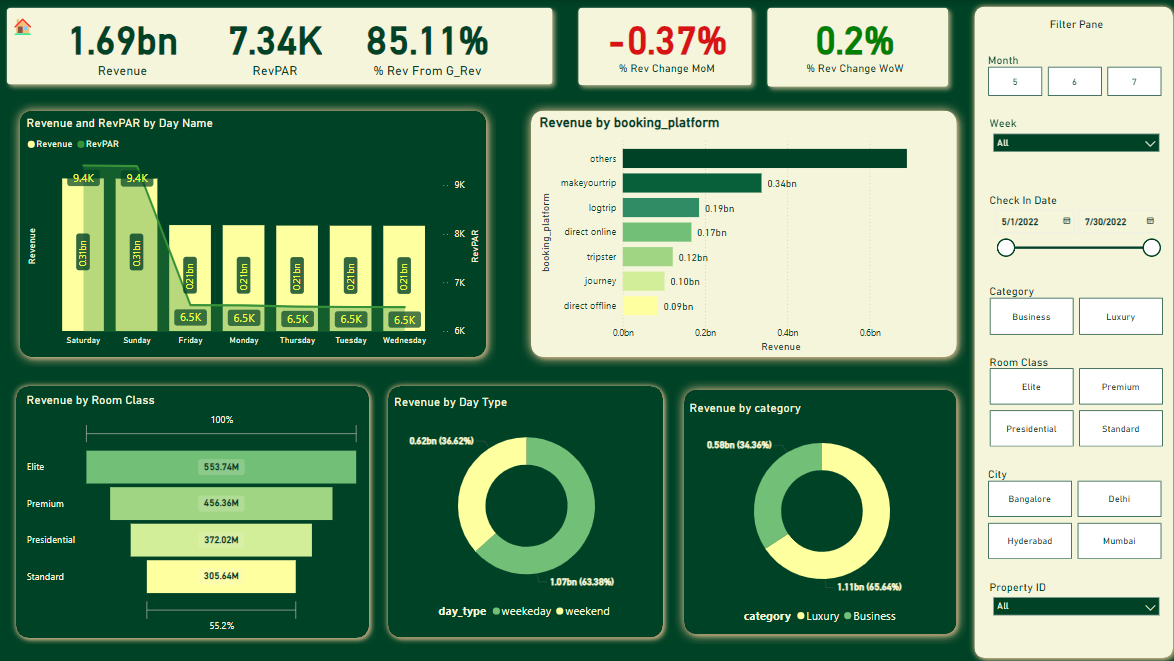

What the dashboard file says about the page in this screenshot:
{"tool":"powerbi","page":{"name":"Drill","canvas":[1280,720],"ordinal":2},"visuals":[{"type":"shape","box":[0,0,1280,71.7],"z":0},{"type":"cardVisual","fields":{"Data":["Key Measures (2).Revenue","Key Measures (2).RevPAR","Key Measures (2).ADR","Key Measures (2).Occupancy %","Key Measures (2).Realisation %","Key Measures (2).DSRN"]},"box":[40.8,0,1198.8,71.8],"z":1000},{"type":"advancedSlicerVisual","title":"WEEK","fields":{"Values":["dim_date.wn"]},"box":[0,77.3,63.2,642.5],"z":2000},{"type":"tableEx","fields":{"Values":["Key Measures (2).Revenue WoW change %"]},"box":[177.3,0,103.7,44.3],"z":3000},{"type":"tableEx","fields":{"Values":["Key Measures (2).Revpar WoW change %"]},"box":[377.7,0,102,44.3],"z":4000},{"type":"tableEx","fields":{"Values":["Key Measures (2).ADR WoW change %"]},"box":[579,0,94,44.3],"z":5000},{"type":"tableEx","fields":{"Values":["Key Measures (2).Occupancy WoW change %"]},"box":[783,0,106.4,44.3],"z":6000},{"type":"tableEx","fields":{"Values":["Key Measures (2).Realisation WoW change %"]},"box":[982.5,0,96.7,44.3],"z":7000},{"type":"shape","title":"realisation Shape","box":[70,78,691.6,631.3],"z":9000},{"type":"pivotTable","fields":{"Rows":["dim_date.date.Variation.Date Hierarchy.Month","dim_date.week no","dim_date.date.Variation.Date Hierarchy.Day"],"Values":["Key Measures (2).Revenue","Key Measures (2).RevPAR","Key Measures (2).ADR","Key Measures (2).Occupancy %","Key Measures (2).DBRN","Key Measures (2).DSRN","Key Measures (2).DURN","Key Measures (2).Total Bookings"]},"box":[86.9,93.1,665,601.2],"z":10000},{"type":"shape","title":"realisation Shape","box":[770.2,78,273,287],"z":11000},{"type":"donutChart","title":"Realisation-Cancellation-No Show rate %","fields":{"Y":["Key Measures (2).Realisation %","Key Measures (2).Cancellation %","Key Measures (2).No Show rate %"]},"box":[776.7,90.4,259.8,269.6],"z":12000},{"type":"actionButton","box":[0,0,100,40],"z":13000},{"type":"shape","title":"realisation Shape","box":[756,366.2,518.7,343.2],"z":14000},{"type":"areaChart","fields":{"Category":["dim_date.date.Variation.Date Hierarchy.Month","dim_date.week no","dim_date.date.Variation.Date Hierarchy.Day"],"Y":["Key Measures (2).Revenue"]},"box":[770.5,377.7,489.5,328.1],"z":15000},{"type":"shape","title":"hotel cate Shape","box":[1039.2,78.9,217.2,287.3],"z":16000},{"type":"cardVisual","fields":{"Data":["Min(dim_hotels.property_id)","Min(dim_hotels.property_name)","Min(dim_hotels.city)"]},"box":[1047.2,88.7,202.2,266.9],"z":17000}]}

Visuals, with their boxes in screenshot pixels (x1, y1, x2, y2), scaled from the page's 1280x720 canvas onto the 1174x661 screenshot:
shape: (left=0, top=0, right=1173, bottom=66)
cardVisual - Key Measures (2).Revenue x Key Measures (2).RevPAR: (left=37, top=0, right=1137, bottom=66)
"WEEK" advancedSlicerVisual: (left=0, top=71, right=58, bottom=660)
tableEx - Key Measures (2).Revenue WoW change %: (left=163, top=0, right=258, bottom=41)
tableEx - Key Measures (2).Revpar WoW change %: (left=346, top=0, right=440, bottom=41)
tableEx - Key Measures (2).ADR WoW change %: (left=531, top=0, right=617, bottom=41)
tableEx - Key Measures (2).Occupancy WoW change %: (left=718, top=0, right=816, bottom=41)
tableEx - Key Measures (2).Realisation WoW change %: (left=901, top=0, right=990, bottom=41)
"realisation Shape" shape: (left=64, top=72, right=699, bottom=651)
pivotTable - dim_date.date.Variation.Date Hierarchy.Month x dim_date.week no: (left=80, top=85, right=690, bottom=637)
"realisation Shape" shape: (left=706, top=72, right=957, bottom=335)
"Realisation-Cancellation-No Show rate %" donutChart: (left=712, top=83, right=951, bottom=330)
actionButton: (left=0, top=0, right=92, bottom=37)
"realisation Shape" shape: (left=693, top=336, right=1169, bottom=651)
areaChart - dim_date.date.Variation.Date Hierarchy.Month x dim_date.week no: (left=707, top=347, right=1156, bottom=648)
"hotel cate Shape" shape: (left=953, top=72, right=1152, bottom=336)
cardVisual - Min(dim_hotels.property_id) x Min(dim_hotels.property_name): (left=960, top=81, right=1146, bottom=326)
